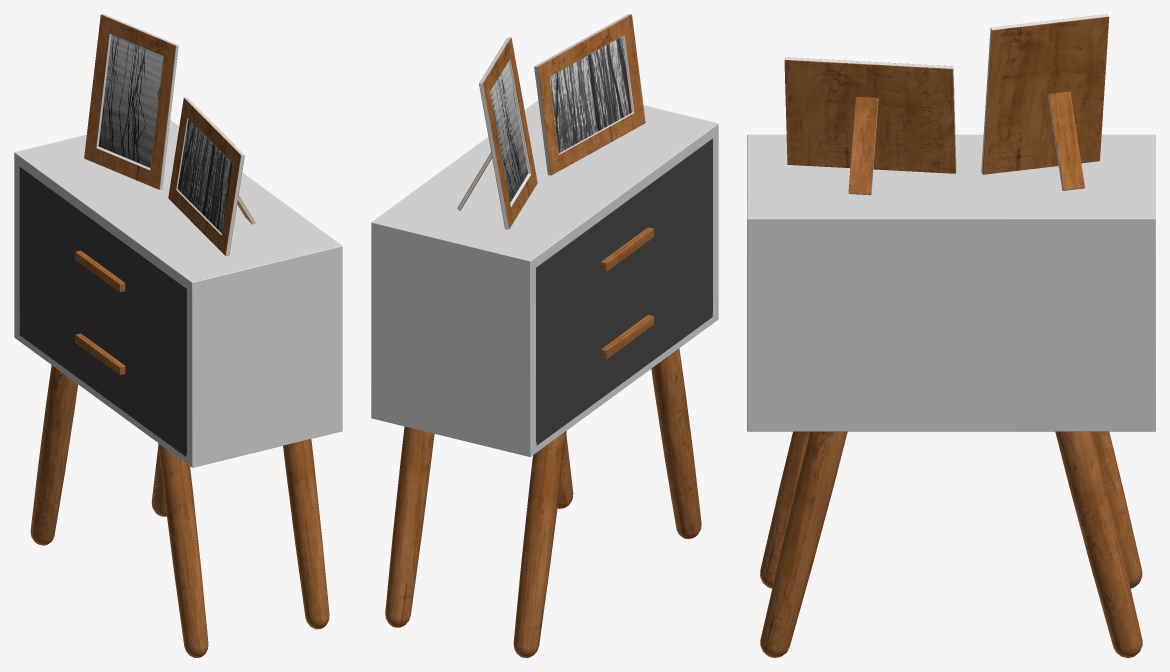
The picture shows the model from 3 angles, left to right: view 1: azimuth 30°, elevation 25°; view 2: azimuth 150°, elevation 25°; view 3: azimuth 270°, elevation 25°; orthographic projection. The views are drawn at different scales.
Visible parts, largest first — view 1: BB_022_008, BB_022_010, BB_022_009, BB_022_011, BB_022_012, BB_022_007, BB_022_004, BB_022_006, BB_022_002, BB_022_003, BB_022_005; view 2: BB_022_008, BB_022_010, BB_022_009, BB_022_012, BB_022_011, BB_022_006, BB_022_005, BB_022_007, BB_022_003, BB_022_002, BB_022_004; view 3: BB_022_008, BB_022_012, BB_022_011, BB_022_005, BB_022_004, BB_022_007, BB_022_006.
Part boxes in pixels (x1=…): BB_022_008: x1=14, y1=120, x2=342, y2=467; BB_022_010: x1=19, y1=248, x2=186, y2=456; BB_022_009: x1=19, y1=167, x2=186, y2=371; BB_022_011: x1=84, y1=14, x2=178, y2=189; BB_022_012: x1=168, y1=97, x2=255, y2=255; BB_022_007: x1=158, y1=443, x2=208, y2=657; BB_022_004: x1=283, y1=439, x2=329, y2=629; BB_022_006: x1=30, y1=365, x2=78, y2=545; BB_022_002: x1=75, y1=333, x2=125, y2=375; BB_022_003: x1=75, y1=250, x2=125, y2=292; BB_022_005: x1=151, y1=446, x2=166, y2=516; BB_022_008: x1=371, y1=100, x2=718, y2=456; BB_022_010: x1=536, y1=225, x2=712, y2=445; BB_022_009: x1=536, y1=138, x2=712, y2=355; BB_022_012: x1=534, y1=14, x2=645, y2=175; BB_022_011: x1=457, y1=37, x2=537, y2=229; BB_022_006: x1=513, y1=431, x2=566, y2=657; BB_022_005: x1=385, y1=426, x2=434, y2=627; BB_022_007: x1=651, y1=348, x2=701, y2=538; BB_022_003: x1=601, y1=227, x2=653, y2=271; BB_022_002: x1=601, y1=315, x2=653, y2=359; BB_022_004: x1=557, y1=435, x2=573, y2=508; BB_022_008: x1=747, y1=134, x2=1155, y2=431; BB_022_012: x1=784, y1=57, x2=956, y2=195; BB_022_011: x1=981, y1=14, x2=1109, y2=190; BB_022_005: x1=1055, y1=431, x2=1142, y2=657; BB_022_004: x1=760, y1=431, x2=847, y2=657; BB_022_007: x1=760, y1=431, x2=810, y2=588; BB_022_006: x1=1092, y1=431, x2=1142, y2=588.
Bounding box in the file's own units: 11.12 × 35.73 × 21.97.
5 materials, 3 textured.
